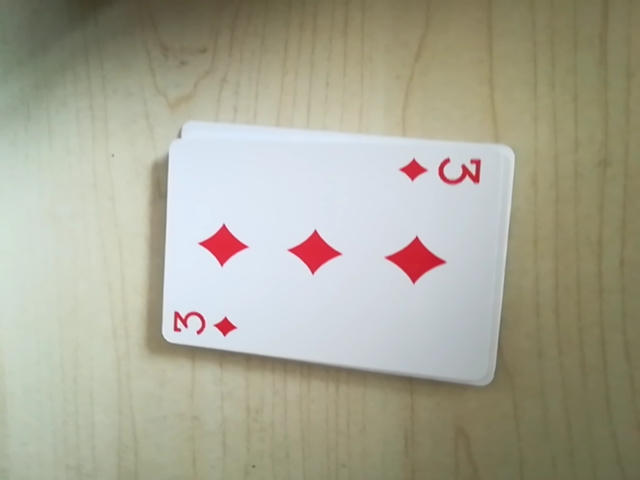fk 3: (394, 146, 492, 196), (167, 302, 246, 343)
